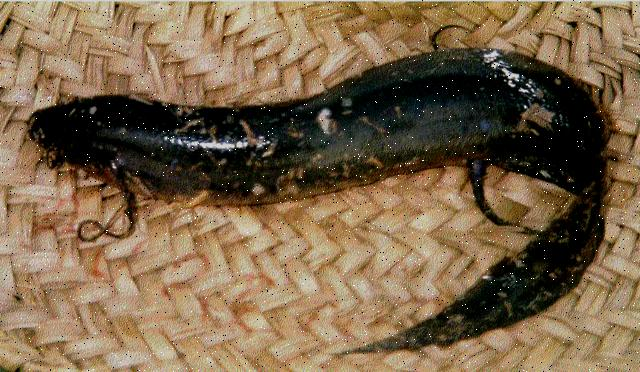Sirip Ekor: (320, 235, 558, 365)
